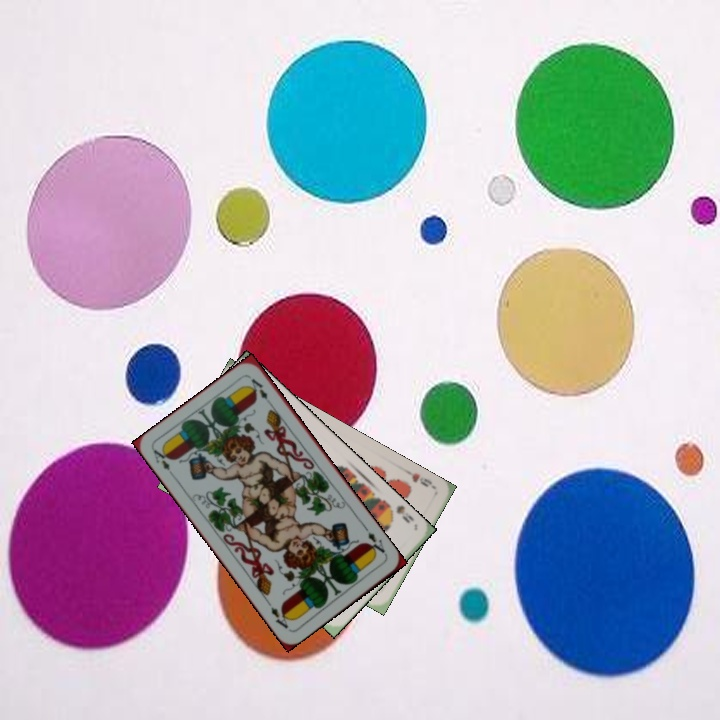EA: (149, 444, 178, 480), (362, 528, 388, 558)
H9: (400, 465, 438, 491)
S9: (381, 499, 417, 526)
